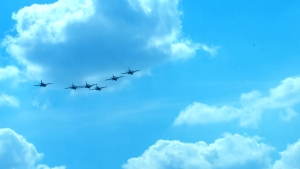flight: (33, 79, 53, 88), (64, 82, 82, 91), (121, 67, 141, 75), (105, 74, 123, 82), (91, 84, 107, 92), (79, 81, 95, 88)
